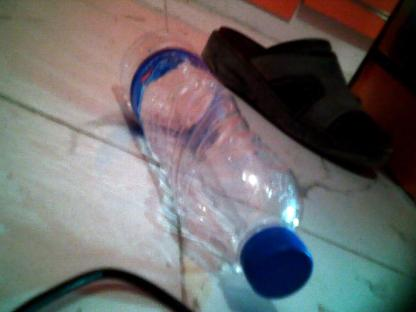Plastic Bottle: (116, 30, 316, 300)
